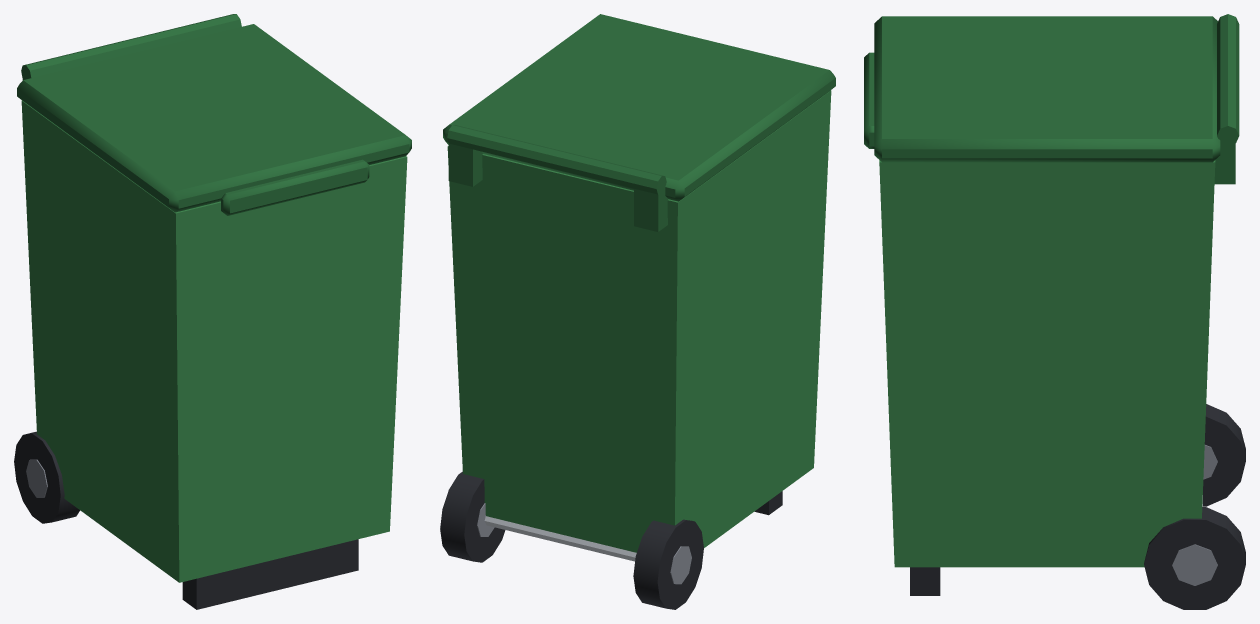
File: trash_can.glb
The picture shows the model from 3 angles, left to right: view 1: azimuth 30°, elevation 25°; view 2: azimuth 150°, elevation 25°; view 3: azimuth 270°, elevation 25°; orthographic projection. The views are drawn at different scales.
Visible parts, largest first — view 1: body; view 2: body; view 3: body.
Boxes of the visible parts, x1=… form: body: x1=14, y1=14, x2=411, y2=609; body: x1=440, y1=14, x2=835, y2=609; body: x1=864, y1=14, x2=1245, y2=609.
Bounding box in the file's own units: 60 × 105 × 75.
